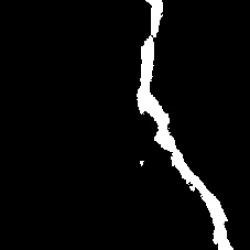crack: (137, 2, 233, 250)
pinhole: (138, 161, 143, 167)
